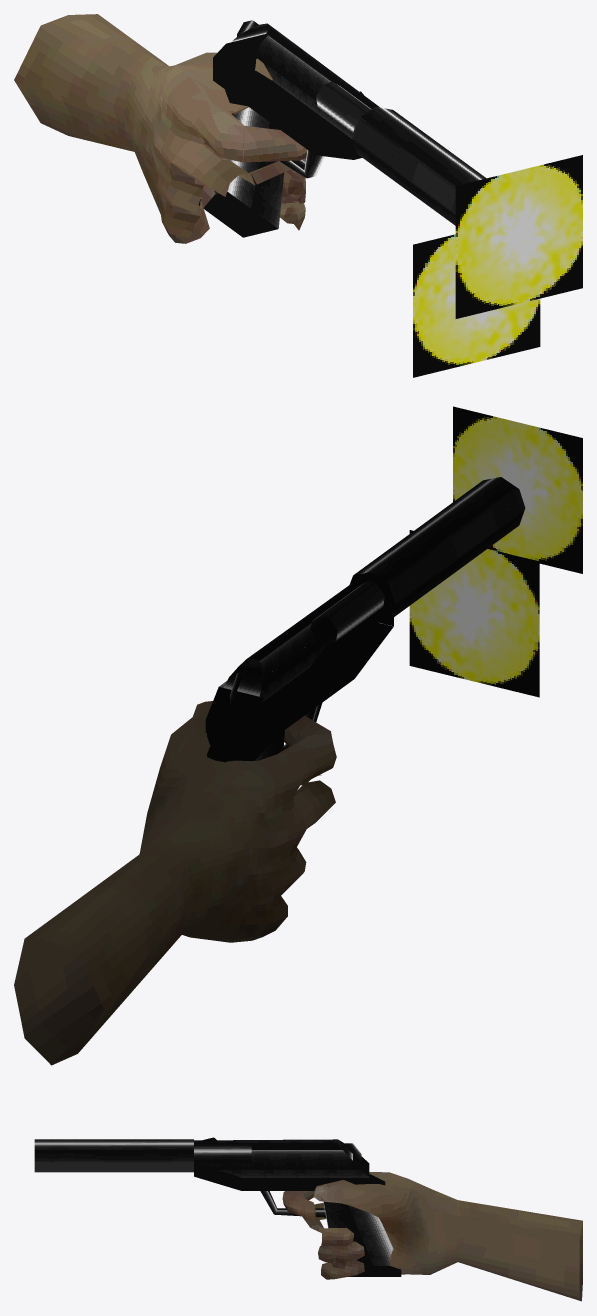
Rendered from GwppksilZ.obj.
The picture shows the model from 3 angles, top to bottom: view 1: azimuth 30°, elevation 25°; view 2: azimuth 150°, elevation 25°; view 3: azimuth 270°, elevation 25°; orthographic projection. The views are drawn at different scales.
Bounding box in the file's own units: 91 × 193 × 532.
31 materials, 31 textured.
